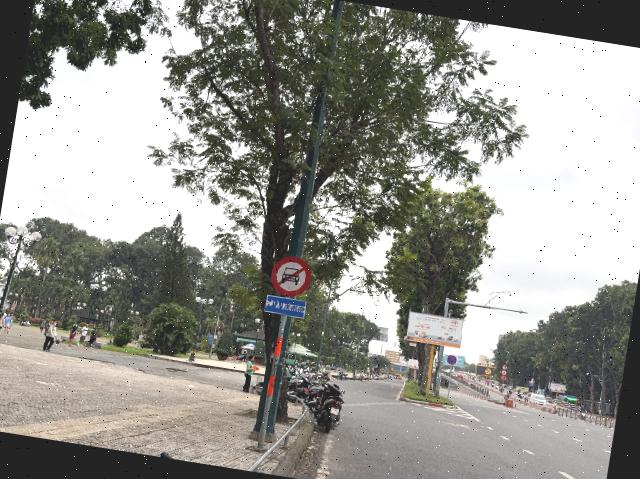cam-o-to: (268, 254, 314, 300)
